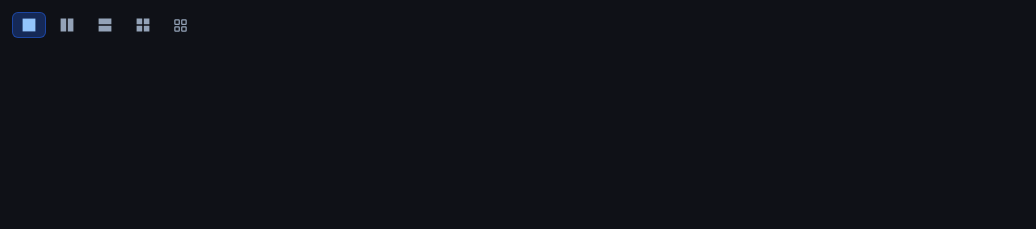
Test: LayoutPicker — custom grid popover › opens the popover when Custom grid button is clicked
Click the button named "Custom grid": (180, 25) [164,12,197,38]
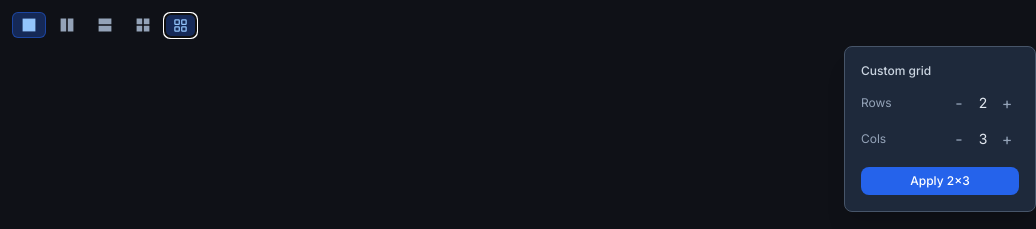
Result: the text "Custom grid" is shown at [861,63,931,78]
